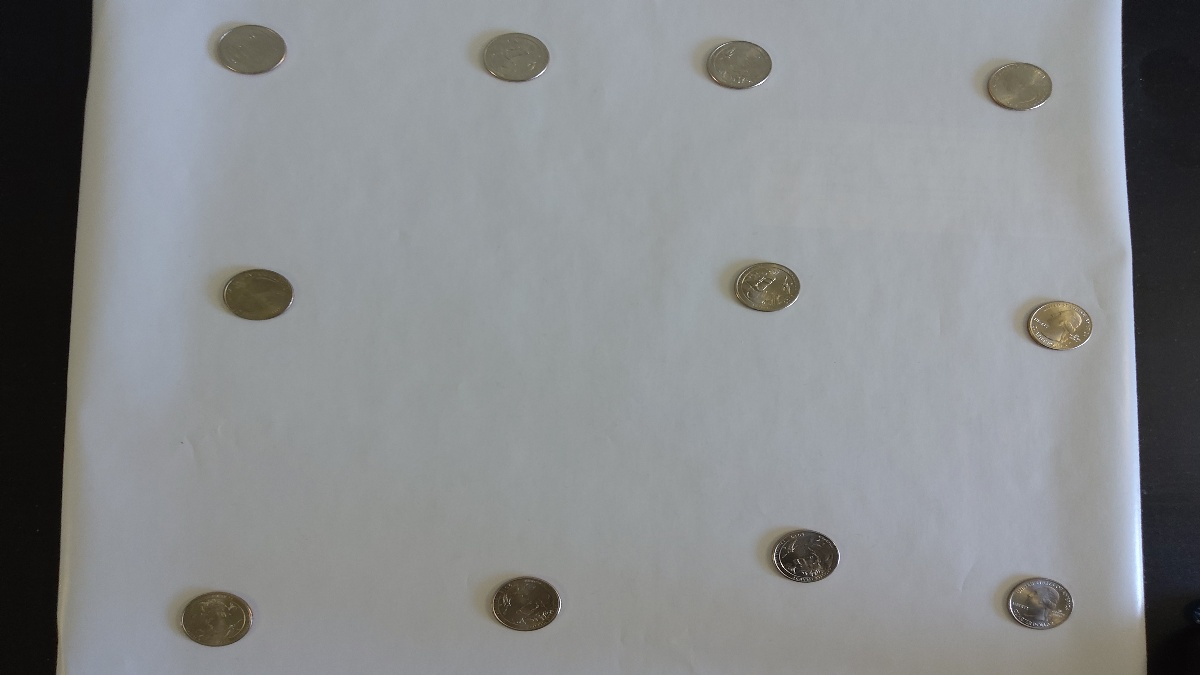coin_quarter: (477, 568, 568, 640), (176, 578, 261, 654), (992, 569, 1081, 639), (764, 518, 847, 590), (209, 255, 297, 322), (719, 254, 808, 320), (212, 17, 292, 82), (1019, 293, 1100, 356), (982, 56, 1060, 119), (699, 36, 779, 94), (479, 27, 556, 86)
